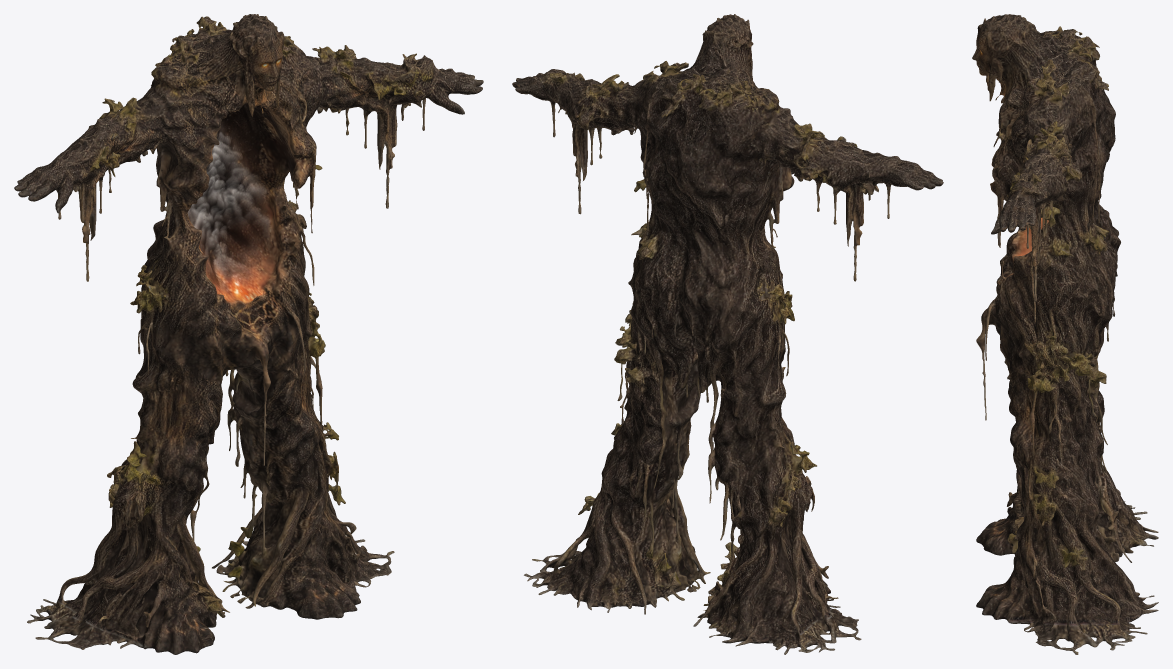
The model's file is cindergut-guardian.glb.
The picture shows the model from 3 angles, left to right: view 1: azimuth 30°, elevation 25°; view 2: azimuth 150°, elevation 25°; view 3: azimuth 270°, elevation 25°; orthographic projection. The views are drawn at different scales.
Bounding box in the file's own units: 1.52 × 1.89 × 0.5706.
1 material, 1 textured.
